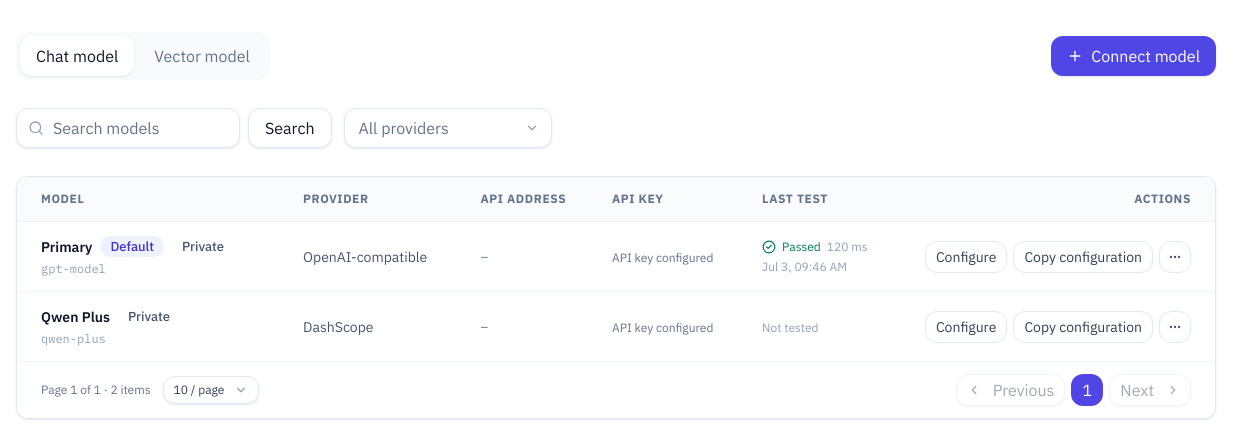
model settings experience › preserves the source and reports a failed duplication without creating a local row
Click the button "Copy configuration" in the row of "Qwen Plus".
click(1083, 326)  # box left=1013, top=310, right=1153, bottom=342
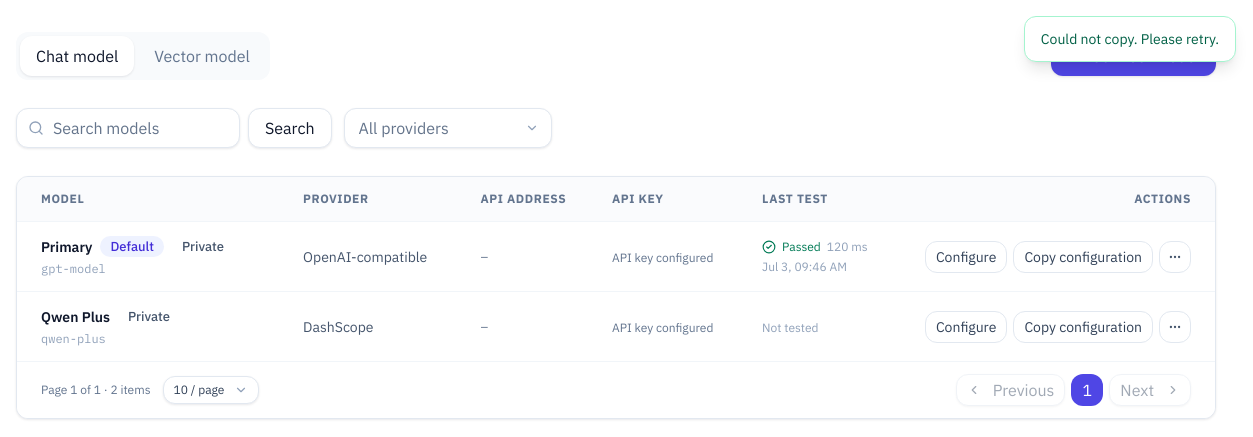
expect the text "Qwen Plus" is shown: met, box left=41, top=306, right=110, bottom=326
expect the text "Could not copy. Please retry." is shown: met, box left=1024, top=16, right=1236, bottom=62
